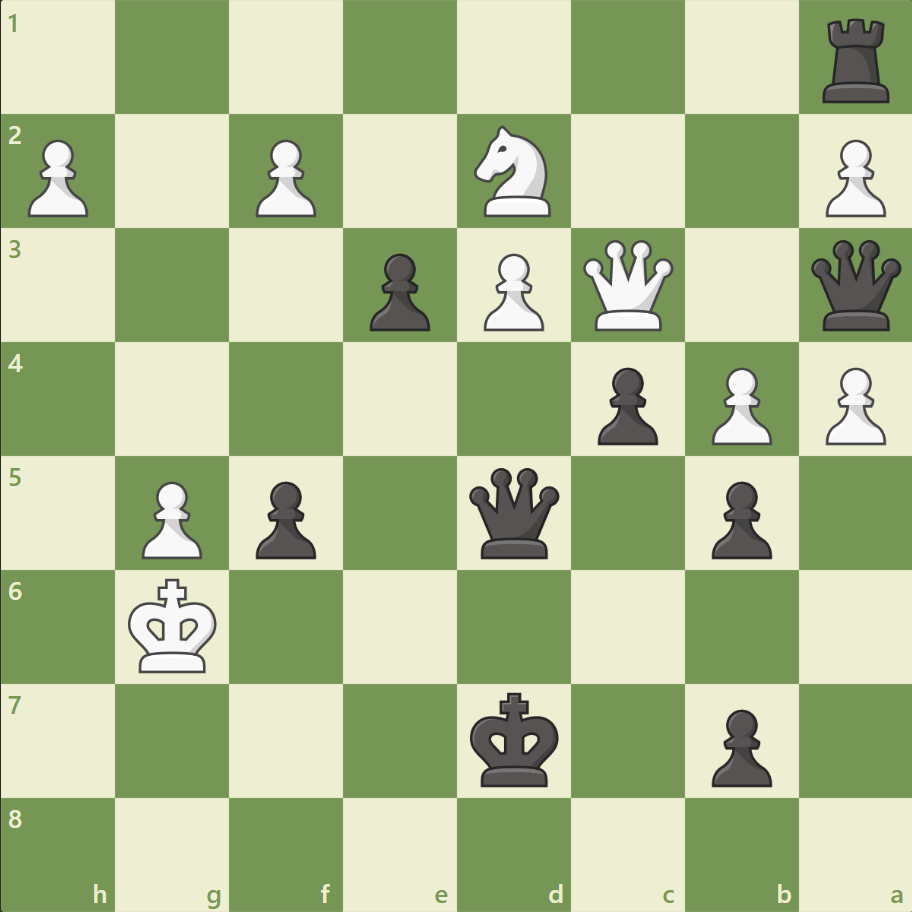K: (124, 571, 224, 679)
N: (465, 121, 562, 223)
P: (133, 473, 208, 564), (701, 359, 776, 450), (474, 246, 549, 337), (247, 132, 322, 223), (20, 132, 95, 223), (815, 359, 889, 450), (815, 132, 889, 223)
Q: (578, 236, 677, 335)
k: (465, 685, 565, 793)
p: (701, 700, 776, 791), (701, 473, 776, 564), (247, 473, 322, 564), (588, 359, 662, 450), (361, 246, 435, 337)
q: (464, 463, 563, 562), (805, 236, 904, 335)
r: (814, 12, 897, 109)
